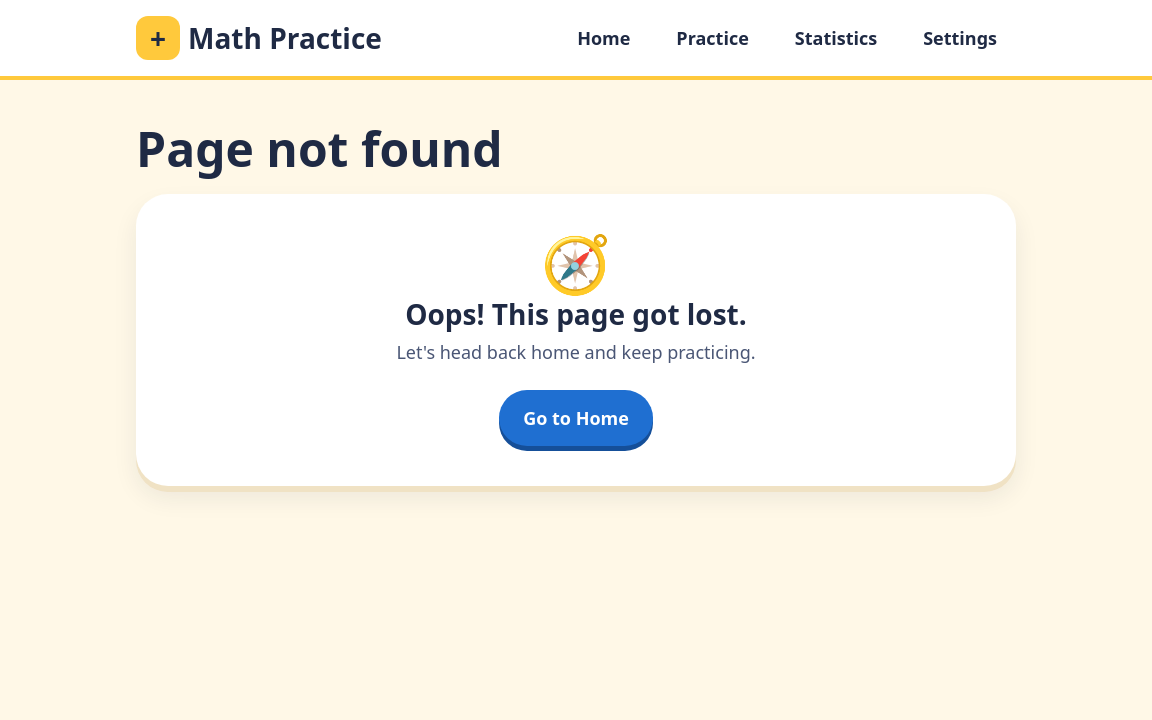
Test: AppRoutes › shows a fallback page for unknown routes
Check: the heading "Page not found" is shown, box [136,116,503,181]
Click the link "Go to Home".
click(576, 418)  # box [499,390,653,446]
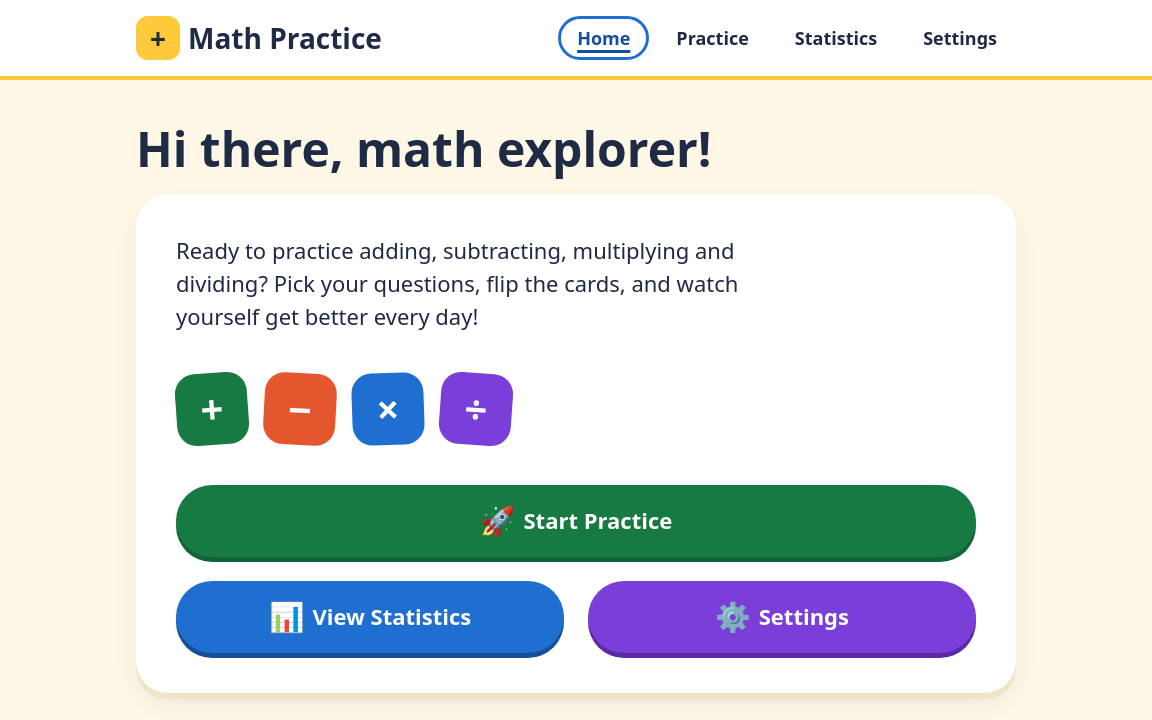
Check: the heading "Hi there, math explorer!" is shown, box [136,116,712,181]
